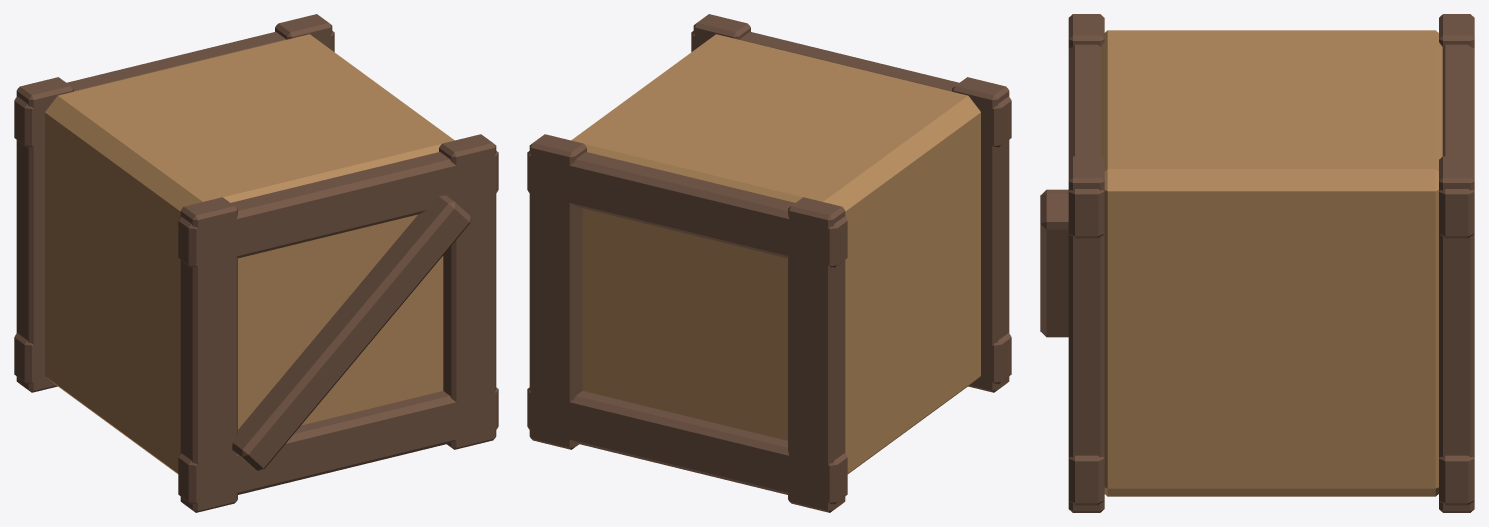
The model's file is crate.glb.
3 views of the same model, side by side, from view 1: azimuth 30°, elevation 25°; view 2: azimuth 150°, elevation 25°; view 3: azimuth 270°, elevation 25° (orthographic). The views are drawn at different scales.
Visible parts, largest first — view 1: crate-body, crate-rail.002, crate-diagonal, crate-rail, crate-upright, crate-upright.002, crate-upright.001, crate-rail.003, crate-rail.001, crate-upright.003; view 2: crate-body, crate-rail.003, crate-rail.001, crate-upright.001, crate-upright.003, crate-upright, crate-rail.002, crate-rail, crate-upright.002; view 3: crate-body, crate-upright.002, crate-upright.003, crate-rail.002, crate-rail.003, crate-diagonal, crate-rail, crate-rail.001, crate-upright, crate-upright.001.
Boxes of the visible parts, x1,y1,x2,y2 form: crate-body: (45, 34, 454, 473); crate-rail.002: (178, 151, 498, 267); crate-diagonal: (232, 195, 470, 470); crate-rail: (178, 387, 498, 504); crate-upright: (180, 197, 237, 512); crate-upright.002: (439, 134, 496, 449); crate-upright.001: (16, 77, 73, 392); crate-rail.003: (14, 31, 334, 147); crate-rail.001: (14, 333, 47, 384); crate-upright.003: (275, 14, 332, 49); crate-body: (571, 34, 980, 473); crate-rail.003: (527, 151, 847, 267); crate-rail.001: (527, 387, 847, 504); crate-upright.001: (788, 197, 845, 512); crate-upright.003: (529, 134, 586, 449); crate-upright: (952, 77, 1009, 392); crate-rail.002: (691, 31, 1011, 147); crate-rail: (978, 333, 1011, 384); crate-upright.002: (693, 14, 750, 47); crate-body: (1100, 30, 1442, 496); crate-upright.002: (1068, 156, 1104, 512); crate-upright.003: (1439, 156, 1474, 512); crate-rail.002: (1068, 44, 1104, 238); crate-rail.003: (1439, 44, 1474, 238); crate-diagonal: (1040, 189, 1068, 337); crate-rail: (1068, 455, 1104, 505); crate-rail.001: (1439, 455, 1474, 505); crate-upright: (1068, 14, 1104, 48); crate-upright.001: (1439, 14, 1474, 48).
Size of the model in its own units: 0.96 by 0.88 by 1.03.
